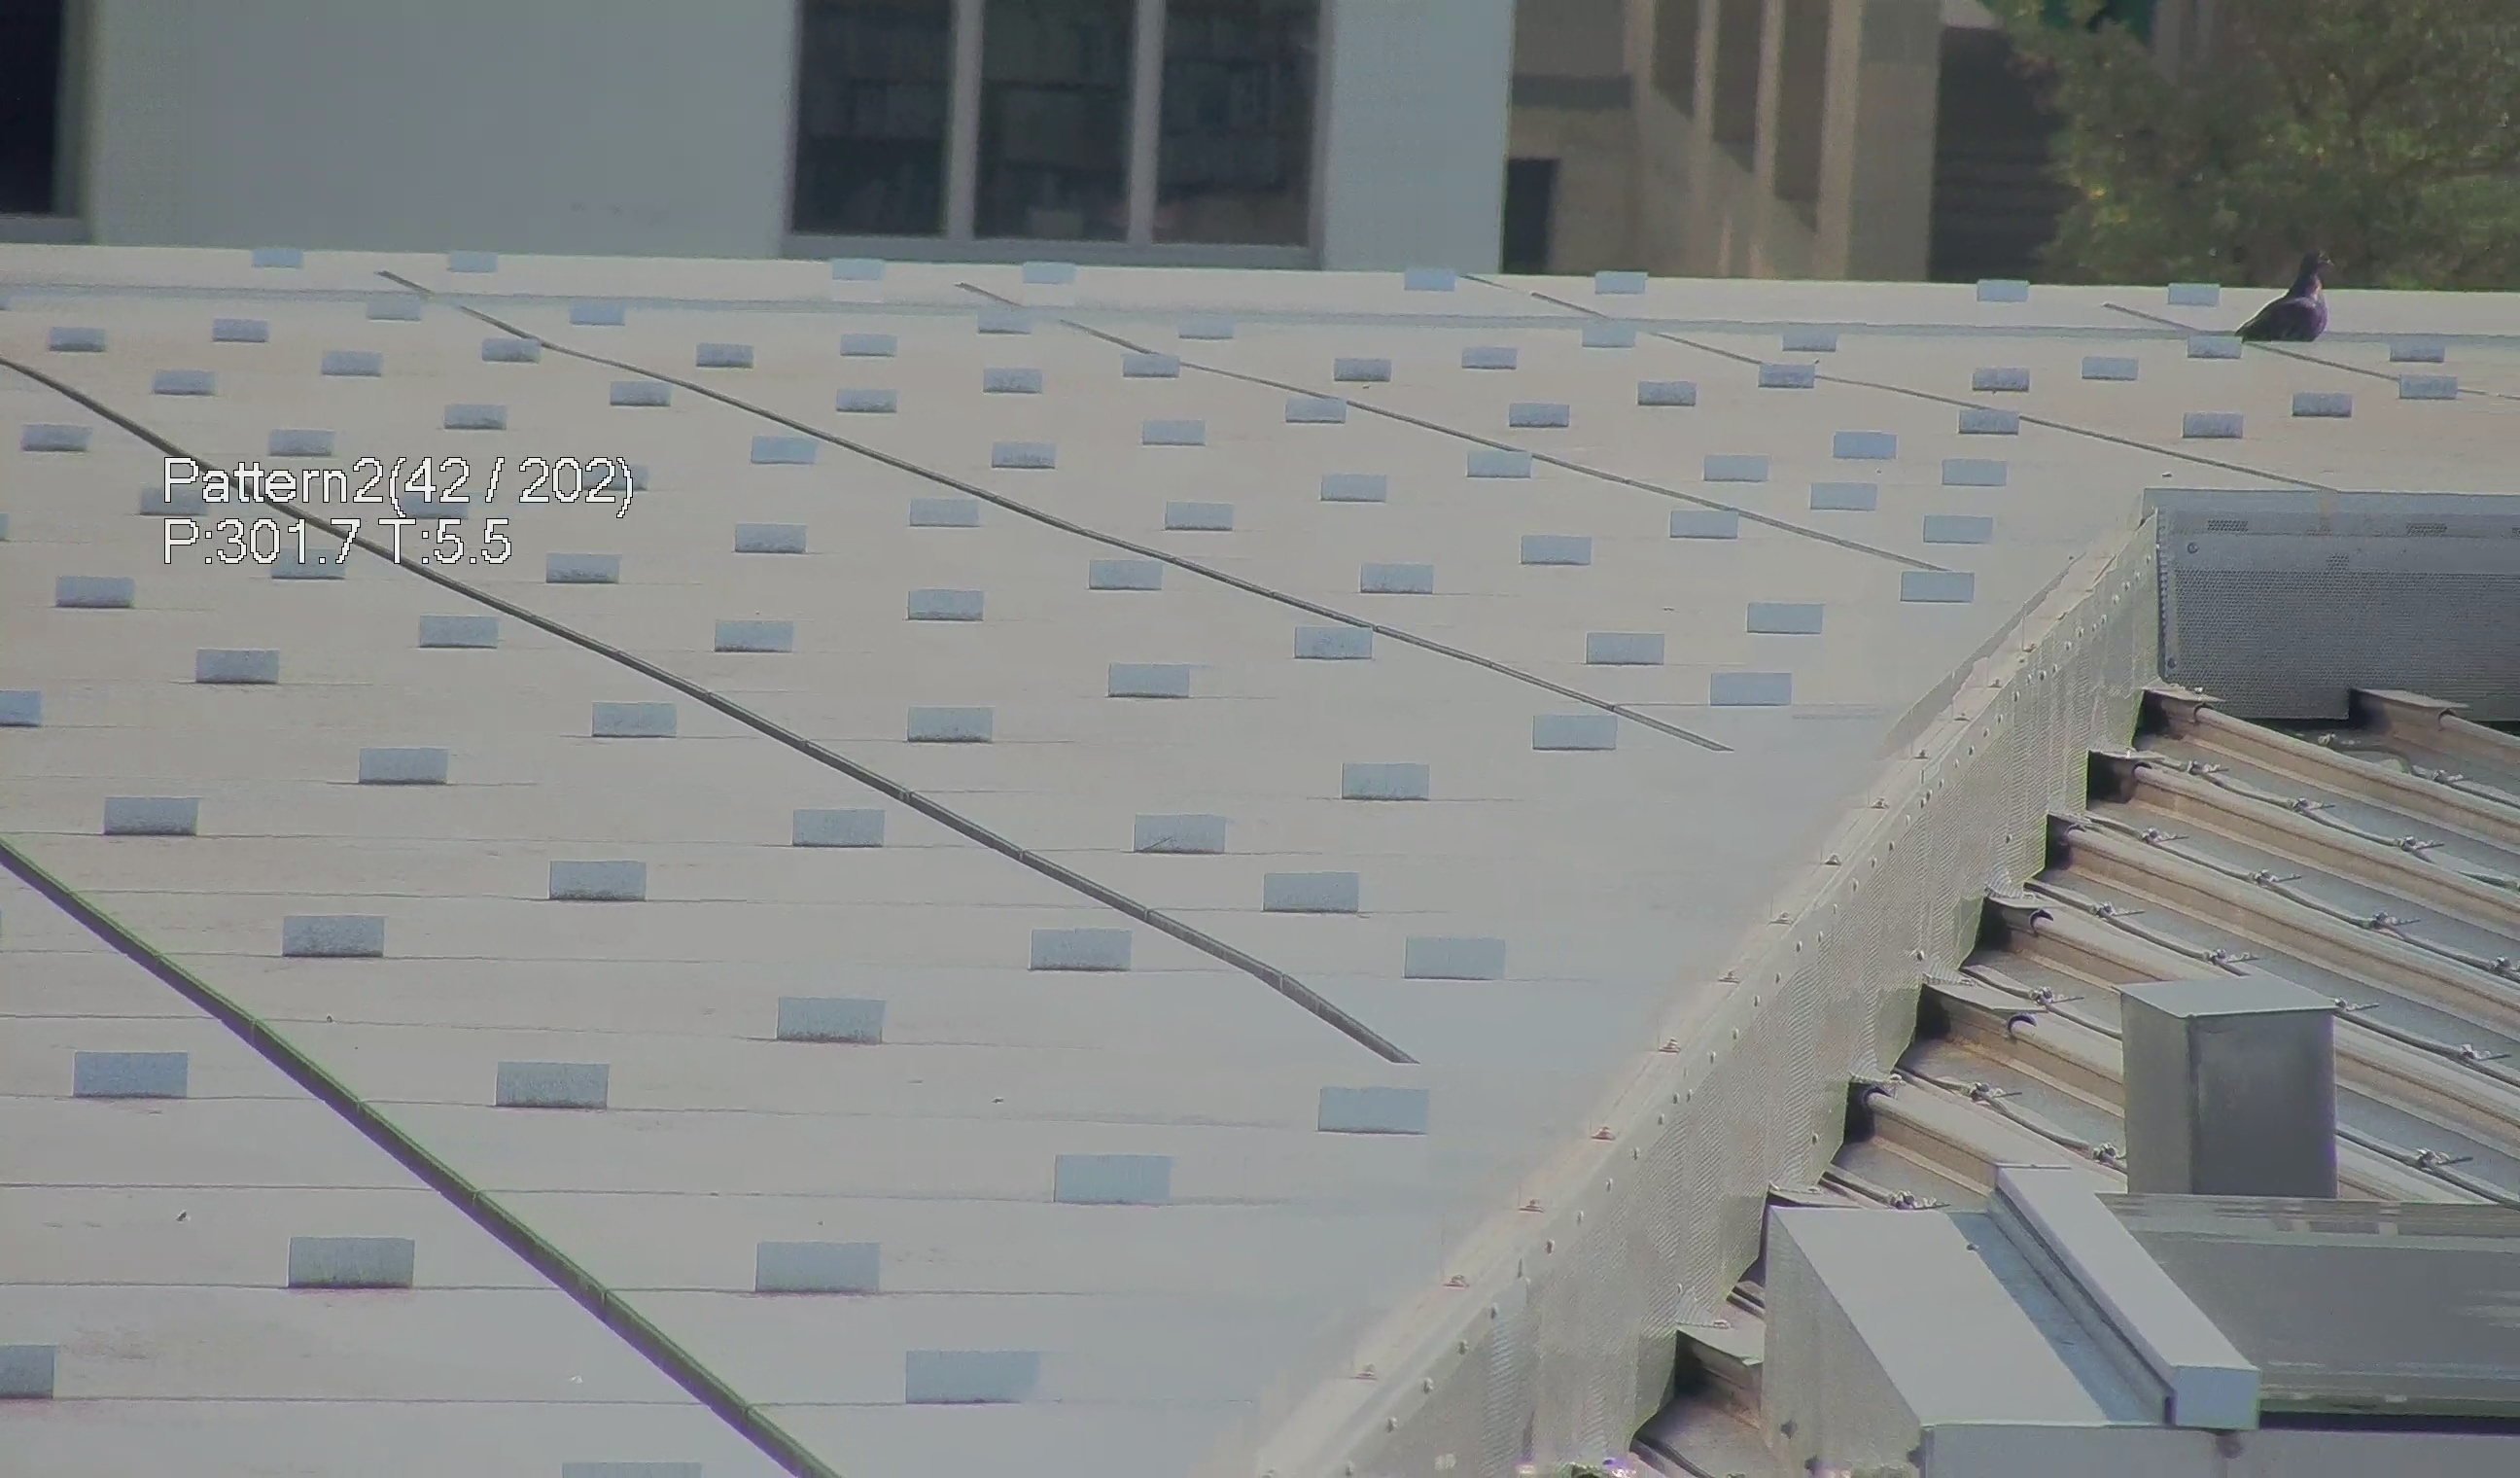Pigeon: (2237, 230, 2348, 366)
